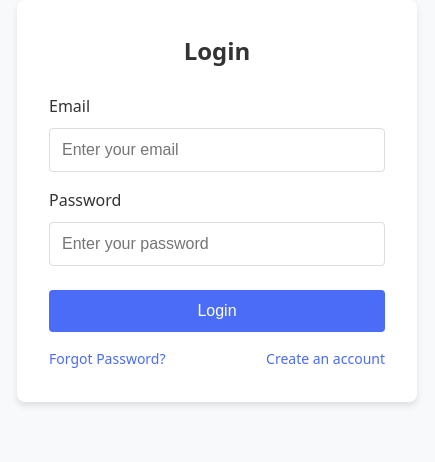
Test case: LoginForm.vue › displays error message on login failure
// Set form values
Type "test@example.com" into the field labelled "Email" at (217, 150), box [49, 128, 385, 172]
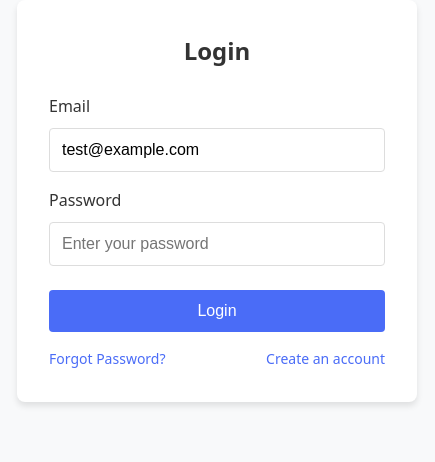
Type "wrong-password" into the password field labelled "Password" at (217, 244), box [49, 222, 385, 266]
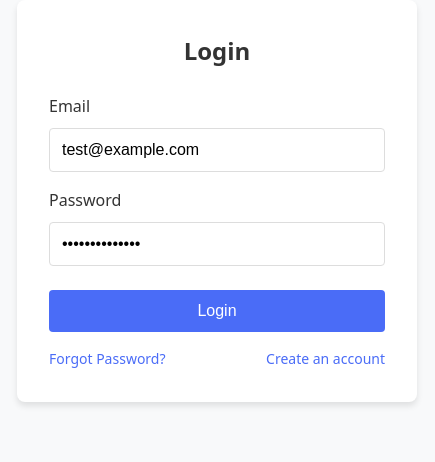
// Submit the form
Submit the form, box [49, 94, 385, 370]
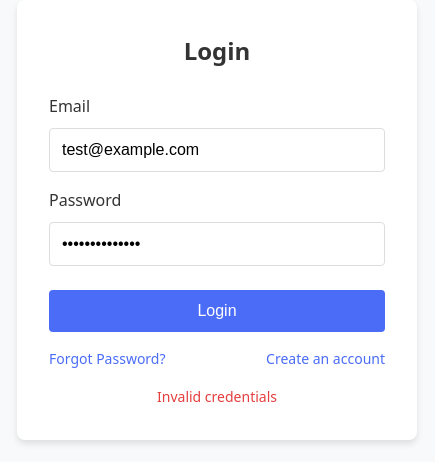
Now the text with class "error-message" reads "Invalid credentials", box [157, 387, 277, 406]
